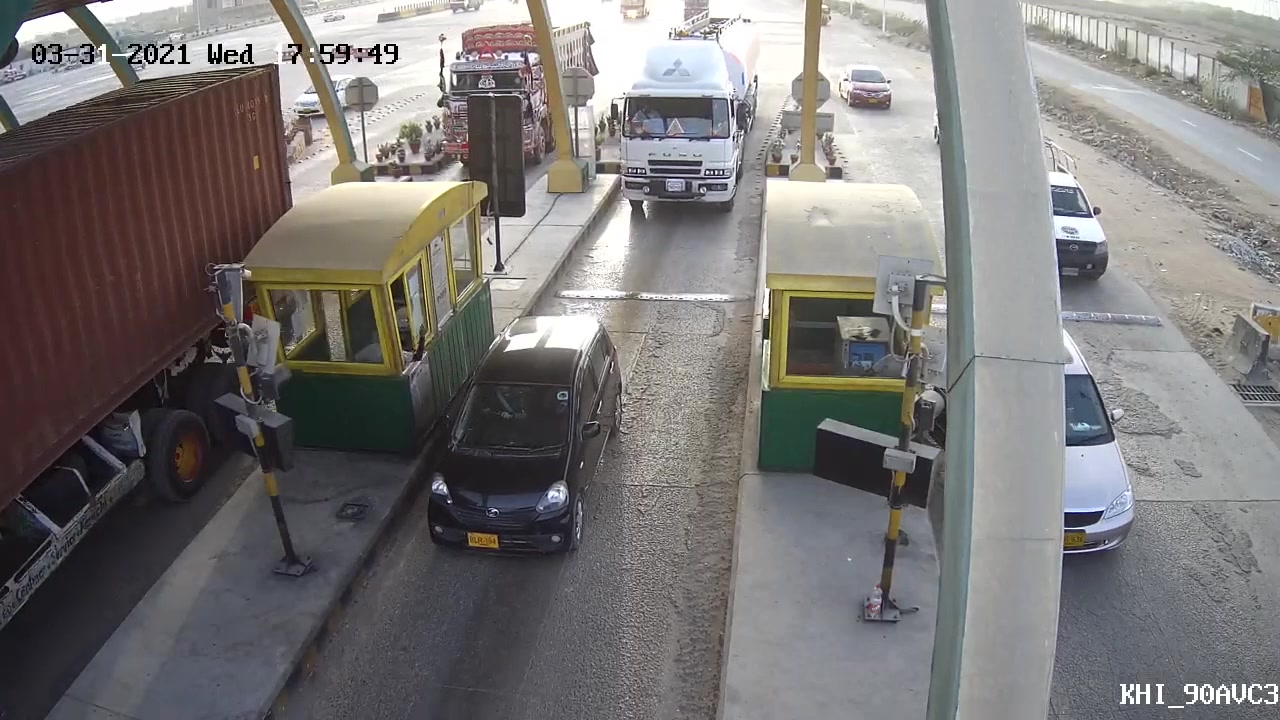F1: (409, 300, 634, 563)
F6: (607, 13, 771, 219)
